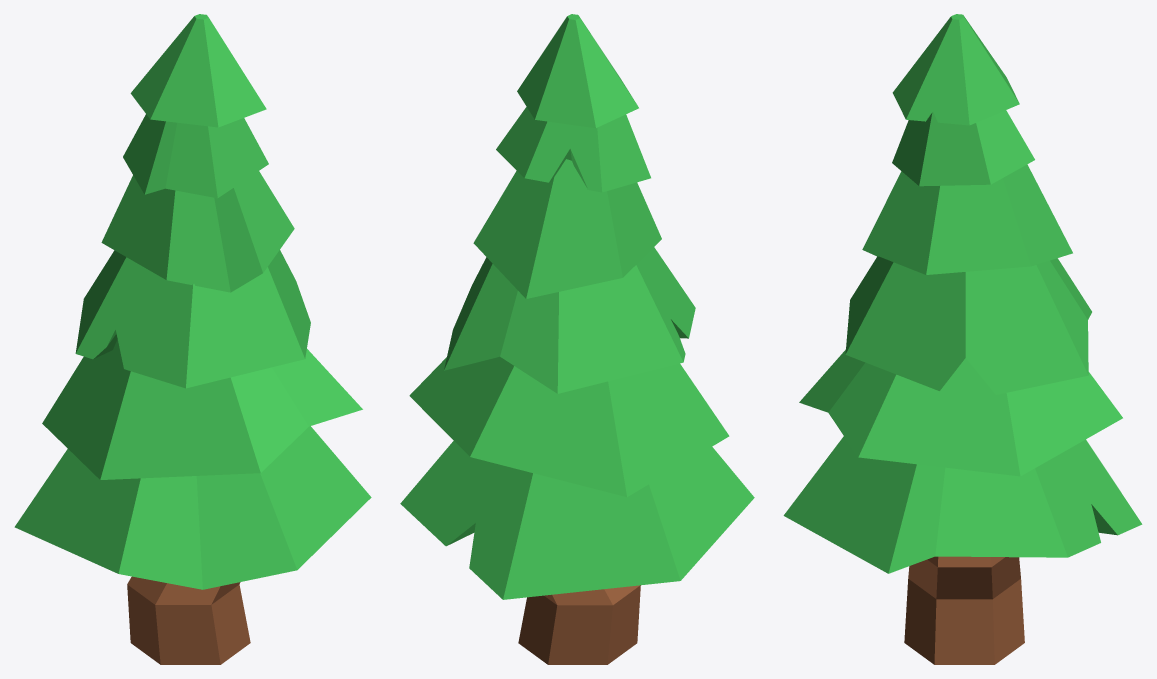
File: pinheiro2.fbx
The picture shows the model from 3 angles, left to right: view 1: azimuth 30°, elevation 25°; view 2: azimuth 150°, elevation 25°; view 3: azimuth 270°, elevation 25°; orthographic projection.
Visible parts, largest first — view 1: Cylinder.008, Cylinder.009, Cylinder.010, Cylinder.011, Cylinder.013, Cylinder.007, Cylinder.012; view 2: Cylinder.008, Cylinder.009, Cylinder.010, Cylinder.011, Cylinder.013, Cylinder.007, Cylinder.012; view 3: Cylinder.008, Cylinder.010, Cylinder.009, Cylinder.011, Cylinder.007, Cylinder.013, Cylinder.012.
Boxes of the visible parts, bbox=[...] form: Cylinder.008: bbox=[14, 426, 371, 589]; Cylinder.009: bbox=[42, 339, 362, 479]; Cylinder.010: bbox=[75, 250, 310, 388]; Cylinder.011: bbox=[101, 171, 294, 292]; Cylinder.013: bbox=[130, 14, 266, 127]; Cylinder.007: bbox=[127, 576, 250, 664]; Cylinder.012: bbox=[123, 114, 268, 198]; Cylinder.008: bbox=[400, 441, 754, 599]; Cylinder.009: bbox=[409, 356, 729, 496]; Cylinder.010: bbox=[444, 247, 695, 393]; Cylinder.011: bbox=[473, 159, 661, 298]; Cylinder.013: bbox=[517, 14, 638, 128]; Cylinder.007: bbox=[518, 585, 640, 664]; Cylinder.012: bbox=[496, 107, 650, 192]; Cylinder.008: bbox=[783, 436, 1142, 573]; Cylinder.010: bbox=[845, 256, 1091, 394]; Cylinder.009: bbox=[799, 349, 1122, 476]; Cylinder.011: bbox=[862, 164, 1072, 274]; Cylinder.007: bbox=[904, 556, 1024, 664]; Cylinder.013: bbox=[892, 14, 1019, 125]; Cylinder.012: bbox=[892, 110, 1034, 186].
Bounding box in the file's own units: 439 × 930 × 480.
